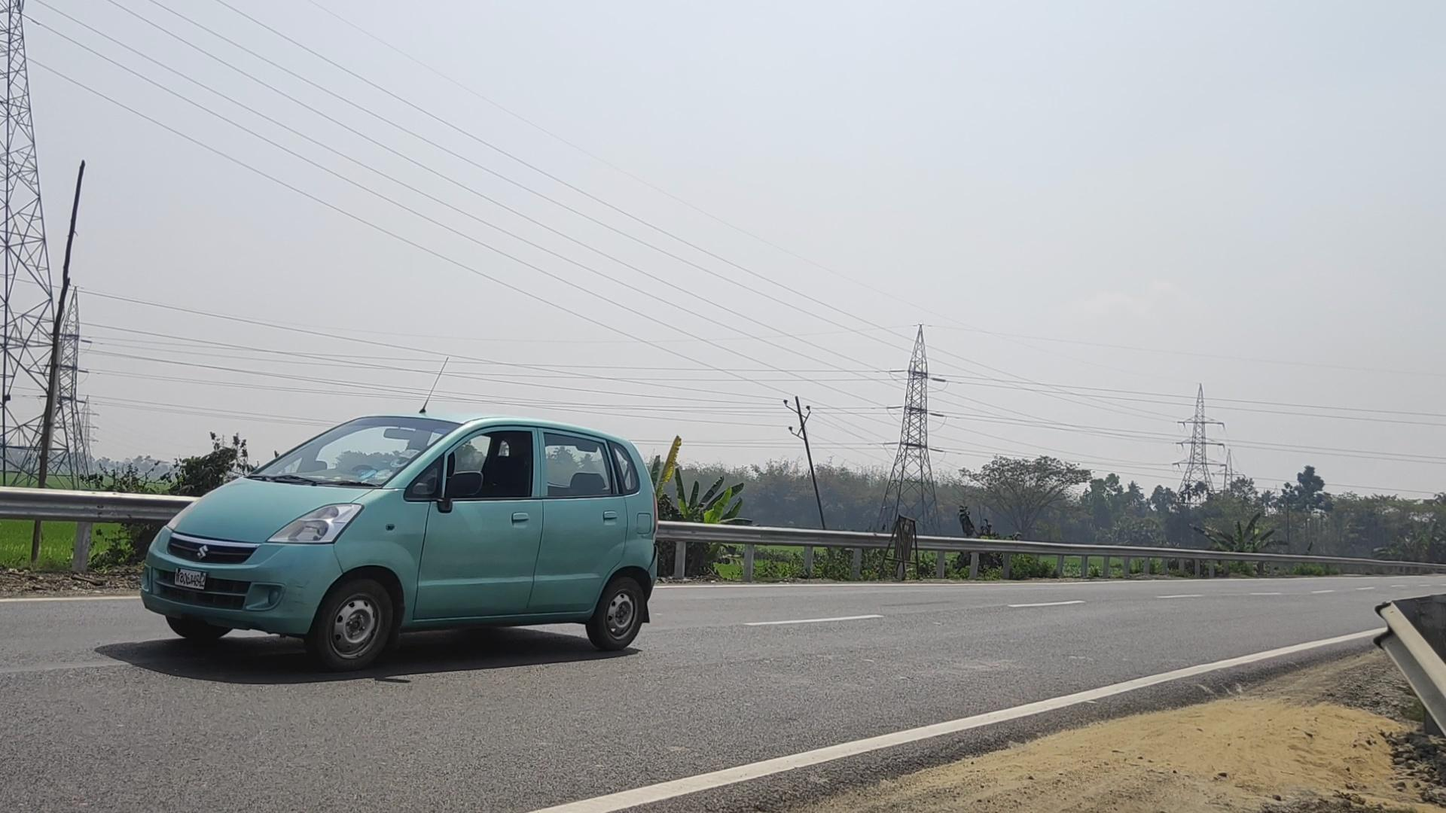car: (141, 410, 659, 673)
